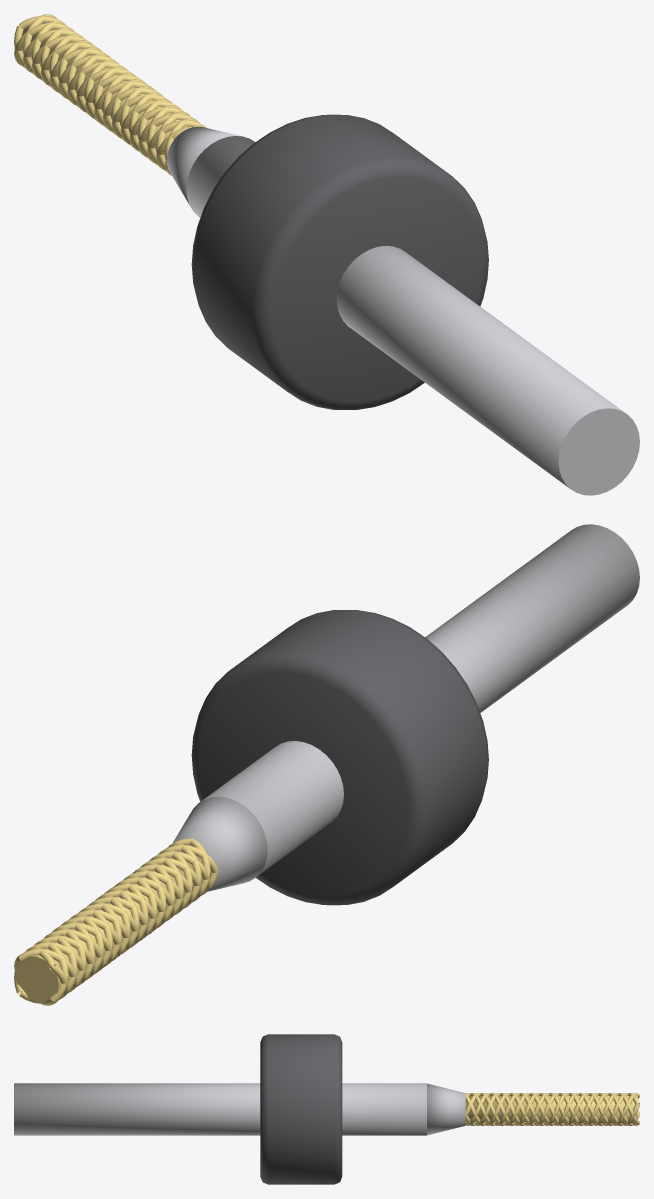
Rendered from corn18_2.glb.
3 renders of one model, top to bottom at view 1: azimuth 30°, elevation 25°; view 2: azimuth 150°, elevation 25°; view 3: azimuth 270°, elevation 25°, orthographic. The views are drawn at different scales.
Visible parts, largest first — view 1: Cylinder.002, Cylinder.001, Cone, flute.002, flute.005, flute.007, flute, flute.004, flute.003, flute.006, flute.001, Cylinder; view 2: Cylinder.002, Cylinder.001, Cone, Cylinder, flute.002, flute.005, flute.007, flute.003, flute, flute.004, flute.006, flute.001; view 3: Cylinder.001, Cylinder.002, Cone, Cylinder, flute.003, flute, flute.006, flute.005, flute.001, flute.004, flute.002, flute.007.
Boxes of the visible parts, bbox=[...] form: Cylinder.002: bbox=[191, 114, 488, 409]; Cylinder.001: bbox=[186, 136, 639, 495]; Cone: bbox=[166, 126, 241, 204]; flute.002: bbox=[14, 22, 191, 168]; flute.005: bbox=[23, 14, 197, 159]; flute.007: bbox=[14, 26, 188, 175]; flute: bbox=[19, 16, 206, 161]; flute.004: bbox=[23, 29, 190, 174]; flute.003: bbox=[32, 21, 206, 164]; flute.006: bbox=[32, 17, 199, 155]; flute.001: bbox=[19, 27, 179, 171]; Cylinder: bbox=[22, 22, 189, 159]; Cylinder.002: bbox=[191, 610, 488, 905]; Cylinder.001: bbox=[200, 524, 639, 876]; Cone: bbox=[172, 796, 267, 891]; Cylinder: bbox=[15, 844, 211, 1002]; flute.002: bbox=[35, 838, 210, 1002]; flute.005: bbox=[19, 844, 218, 991]; flute.007: bbox=[42, 851, 210, 996]; flute.003: bbox=[14, 838, 192, 993]; flute: bbox=[27, 843, 201, 987]; flute.004: bbox=[19, 856, 218, 1003]; flute.006: bbox=[14, 849, 192, 992]; flute.001: bbox=[34, 857, 201, 1005]; Cylinder.001: bbox=[14, 1083, 426, 1135]; Cylinder.002: bbox=[260, 1034, 342, 1184]; Cone: bbox=[427, 1083, 465, 1135]; Cylinder: bbox=[465, 1095, 637, 1123]; flute.003: bbox=[465, 1093, 639, 1125]; flute: bbox=[465, 1093, 639, 1126]; flute.006: bbox=[465, 1093, 639, 1125]; flute.005: bbox=[470, 1092, 639, 1125]; flute.001: bbox=[465, 1093, 639, 1126]; flute.004: bbox=[475, 1092, 639, 1125]; flute.002: bbox=[465, 1093, 639, 1125]; flute.007: bbox=[480, 1093, 639, 1125].
Size of the model in its own units: 0.00917 by 0.00917 by 0.0381.
